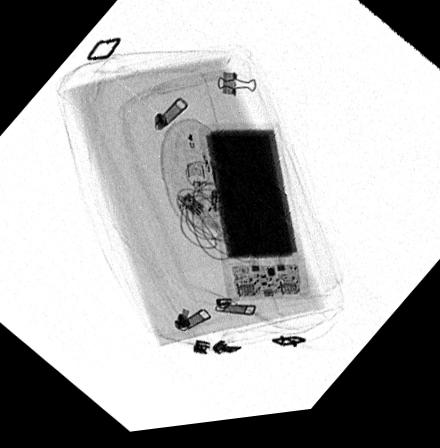Powerbank: (200, 128, 309, 309)
